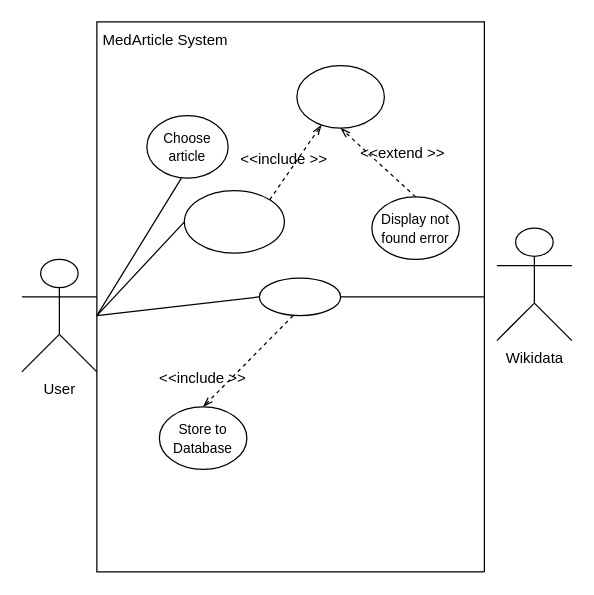
Image size: 594x595. Some labels were removed from this diagram. The centre of each missing label's shape, as x and y in pixels:
Add tag: point (299, 296)
Redirect Keyword Links: point (340, 96)
View keyword links: point (233, 221)
